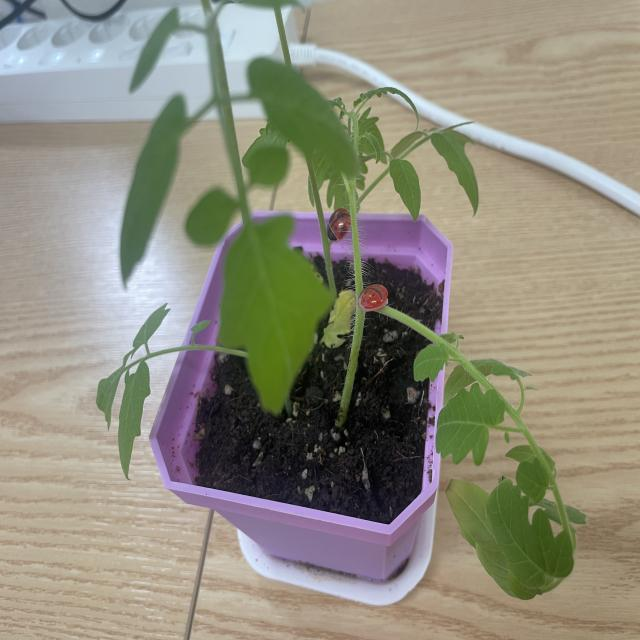bug: (319, 196, 360, 254), (354, 276, 391, 320)
